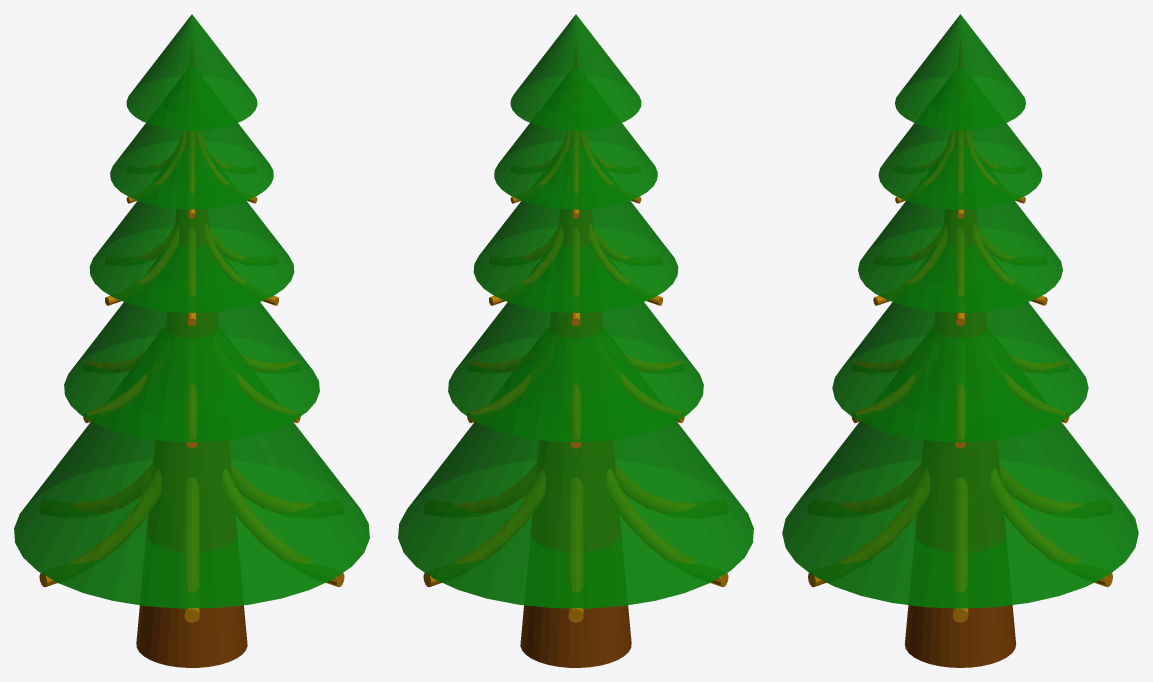
File: LE_Tree2.fbx
The picture shows the model from 3 angles, left to right: view 1: azimuth 30°, elevation 25°; view 2: azimuth 150°, elevation 25°; view 3: azimuth 270°, elevation 25°; orthographic projection.
Parts seen in each view (by area): view 1: Cone; view 2: Cone; view 3: Cone.
Part boxes in pixels (x1,y1,x2,y2): Cone: (14, 14, 369, 667); Cone: (398, 14, 753, 667); Cone: (782, 14, 1138, 667).
Size of the model in its own units: 320 by 624 by 320.
